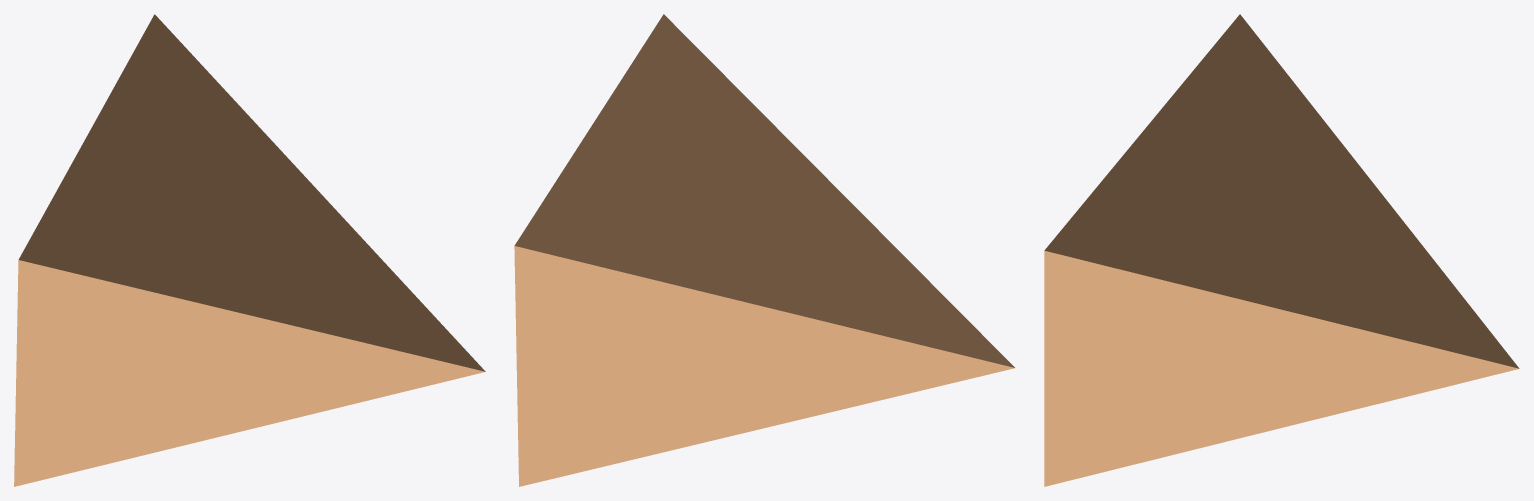
File: fox-fixture.glb
The picture shows the model from 3 angles, left to right: view 1: azimuth 30°, elevation 25°; view 2: azimuth 150°, elevation 25°; view 3: azimuth 270°, elevation 25°; orthographic projection. The views are drawn at different scales.
Parts seen in each view (by area): view 1: body; view 2: body; view 3: body.
Boxes of the visible parts, x1,y1,x2,y2 form: body: (14, 14, 485, 486); body: (514, 14, 1014, 486); body: (1044, 14, 1519, 486).
Bounding box in the file's own units: 2 × 1.4 × 1.7.
